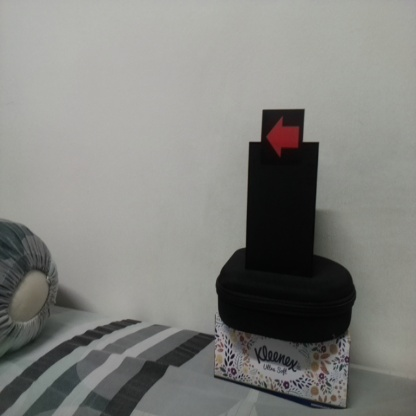id_4: (262, 111, 304, 167)
